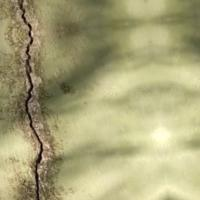crack: (2, 1, 67, 199)
